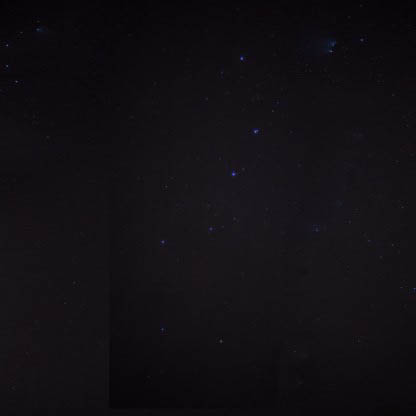Ursa Major: (316, 35, 345, 66), (153, 228, 174, 257), (235, 49, 256, 76), (244, 120, 261, 149), (198, 217, 218, 241), (224, 164, 245, 183), (282, 120, 299, 139)
